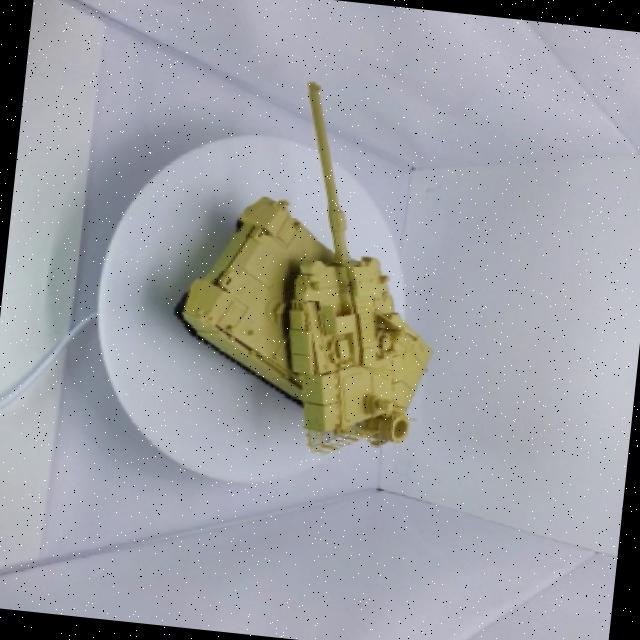korea tank: (136, 58, 487, 480)
